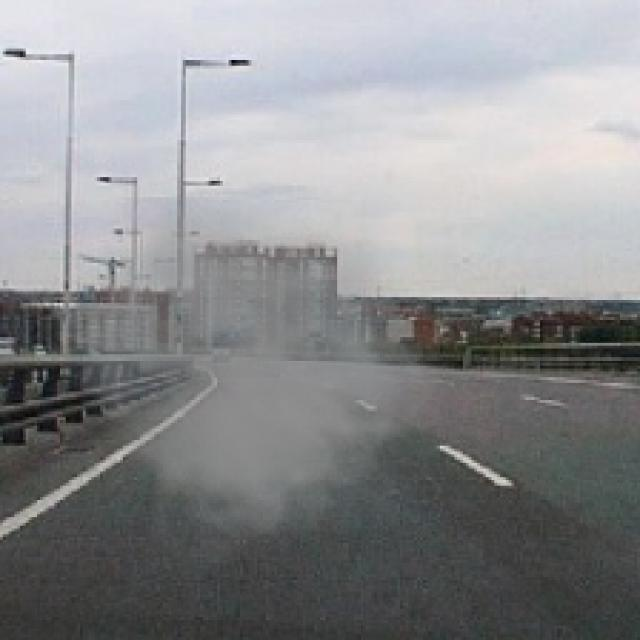smoke: (46, 197, 460, 577)
